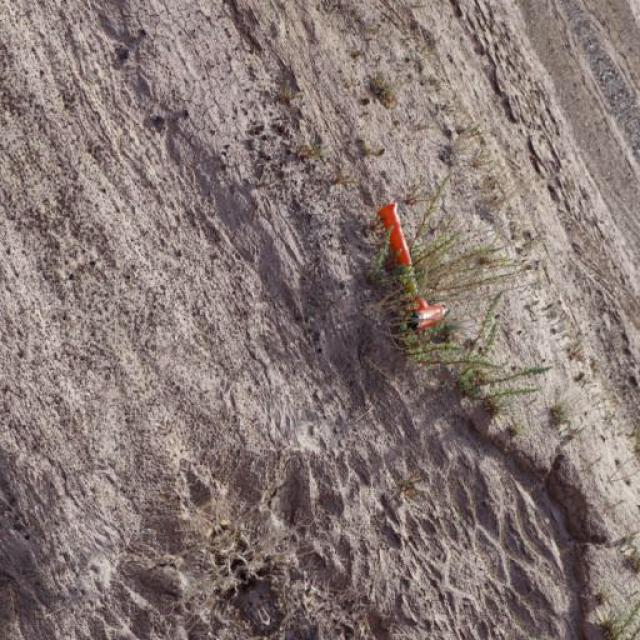mallet: (378, 200, 448, 331)
